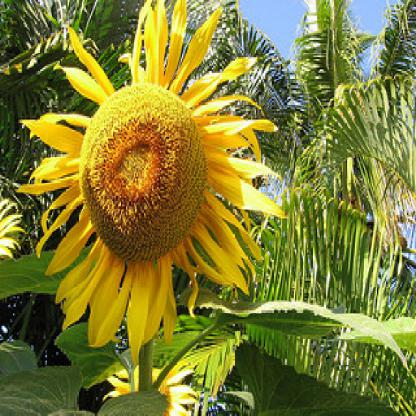SUN FLOWER: (39, 17, 296, 339)
